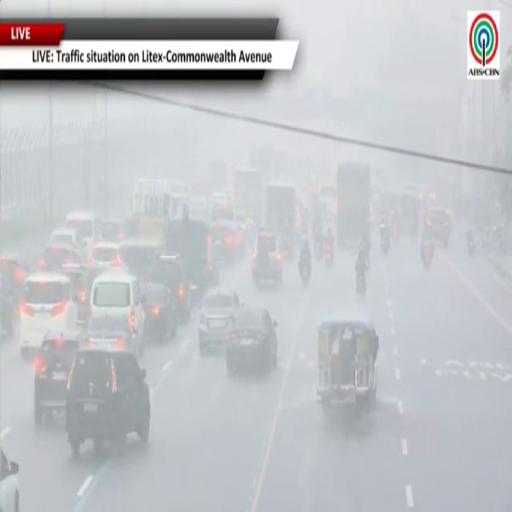car: (66, 348, 151, 457), (20, 274, 77, 358), (34, 330, 83, 426), (90, 270, 144, 335), (226, 308, 277, 375), (199, 290, 240, 356), (150, 255, 191, 321), (0, 255, 29, 338), (86, 316, 143, 356), (144, 282, 178, 340), (120, 238, 161, 282), (62, 264, 92, 324), (252, 230, 282, 285), (210, 221, 241, 264), (0, 255, 29, 298), (66, 212, 98, 250), (39, 244, 83, 271), (0, 450, 19, 511), (424, 208, 452, 246), (89, 243, 122, 271), (50, 228, 85, 248), (99, 219, 124, 243), (212, 201, 234, 221), (189, 198, 209, 219)
motorcycle: (299, 261, 311, 285), (422, 245, 433, 268), (467, 231, 476, 255), (356, 272, 365, 296), (325, 244, 333, 267), (391, 223, 400, 242), (315, 240, 323, 261), (381, 238, 389, 255), (468, 241, 476, 256)
truck: (337, 162, 371, 248), (127, 179, 171, 243), (265, 183, 297, 259), (233, 168, 262, 227), (208, 159, 227, 191)
